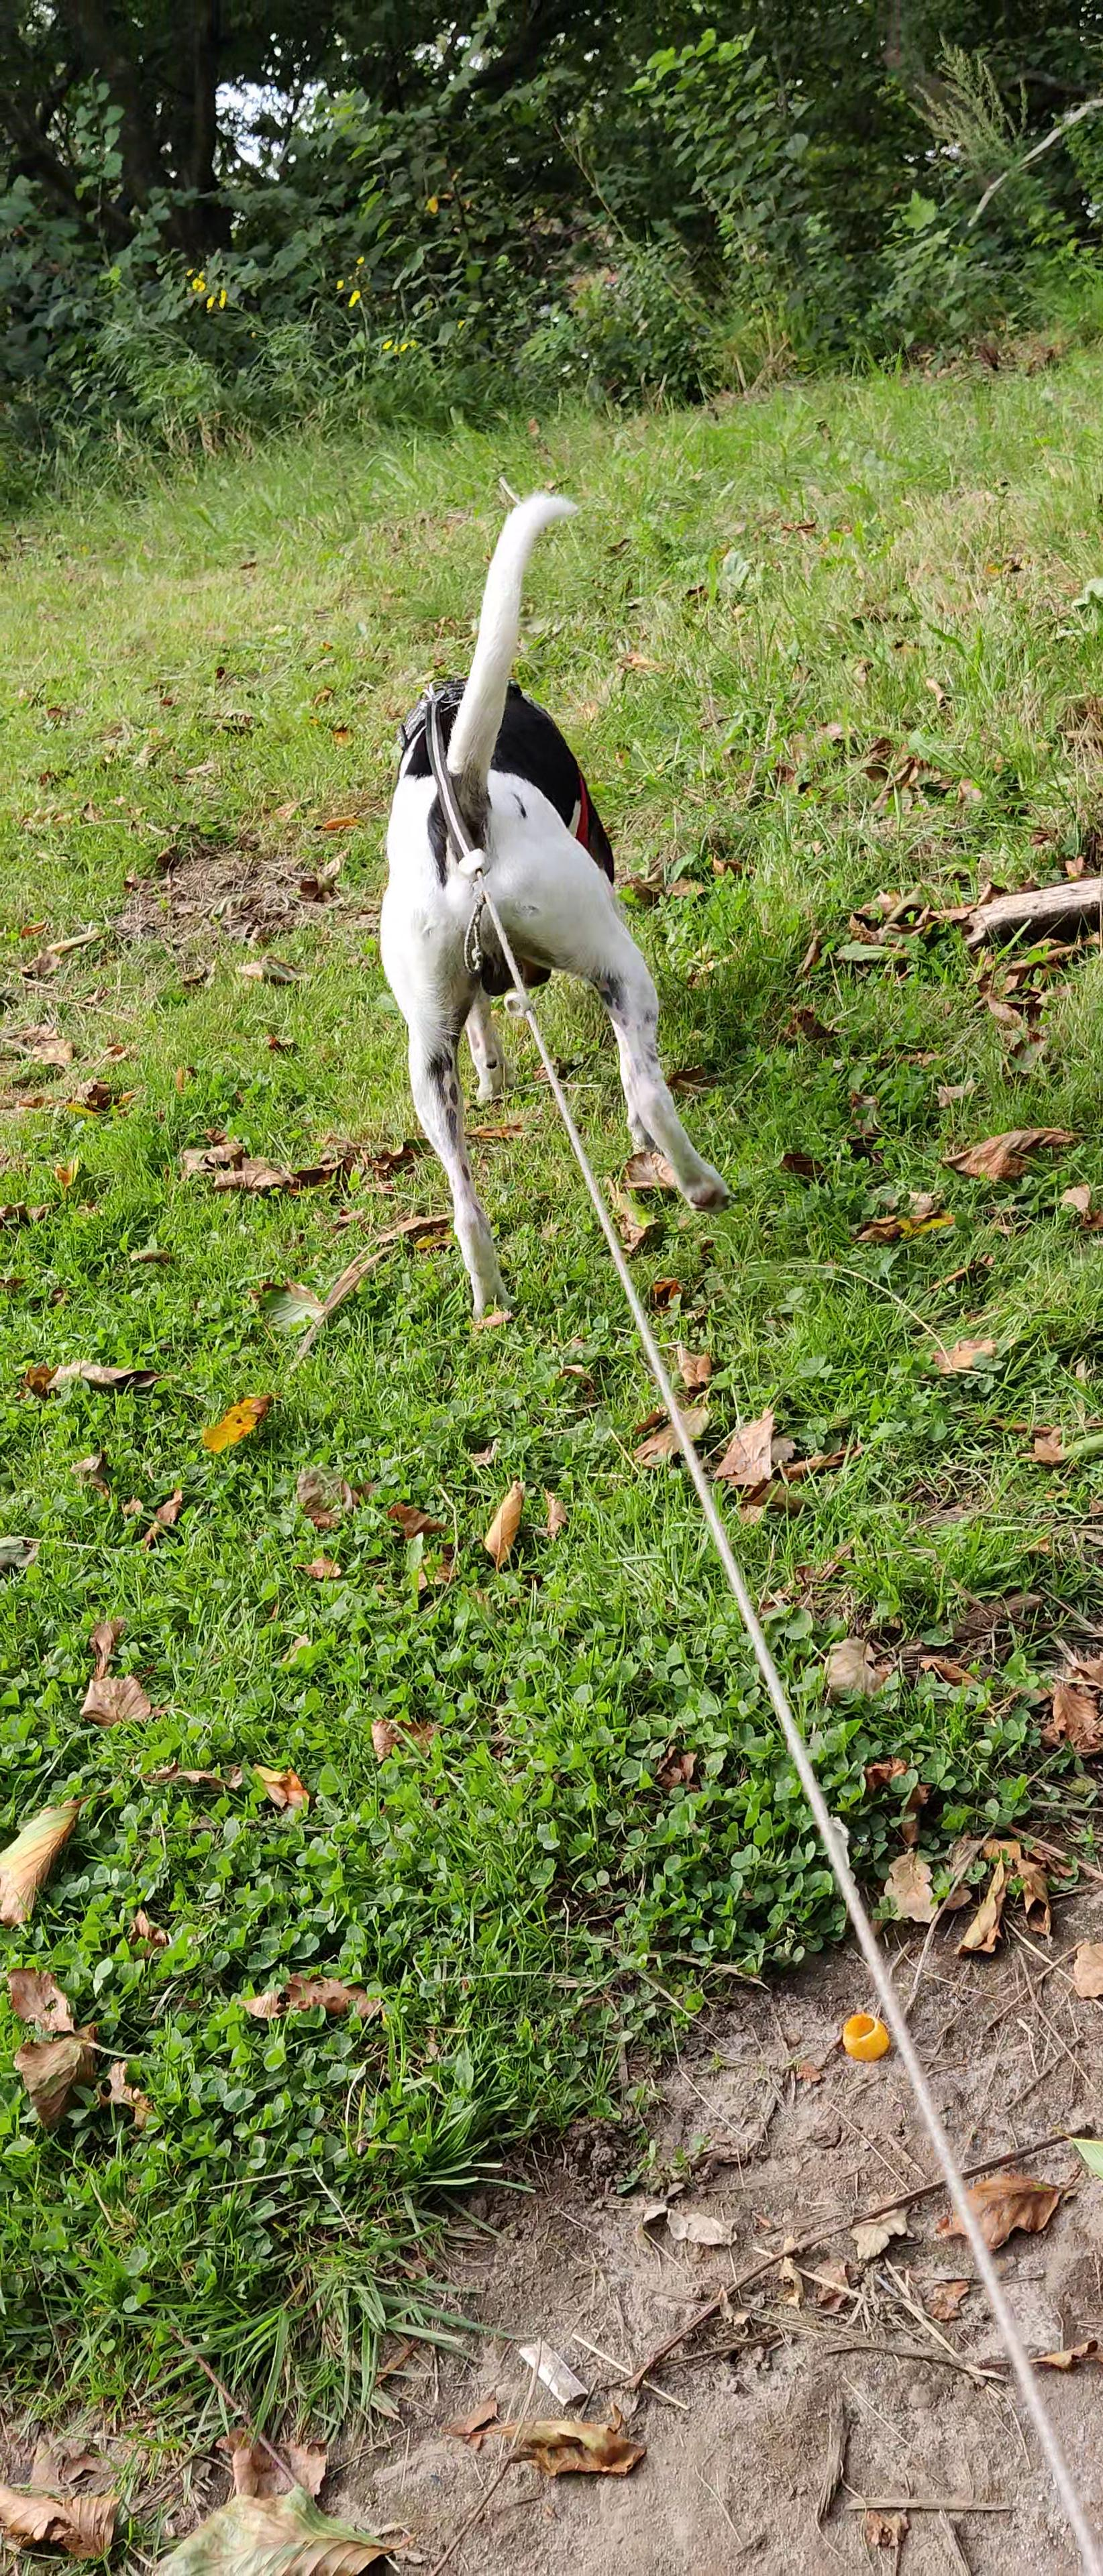Dog: (294, 468, 824, 1334)
